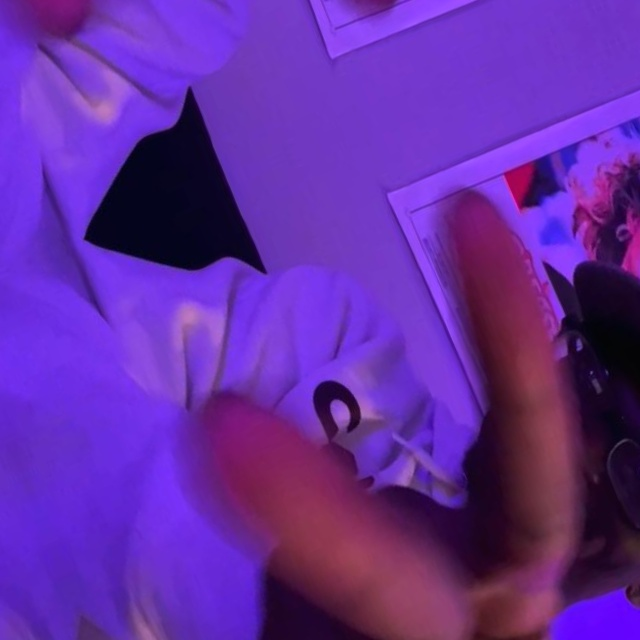Scissors: (0, 0, 426, 149)
